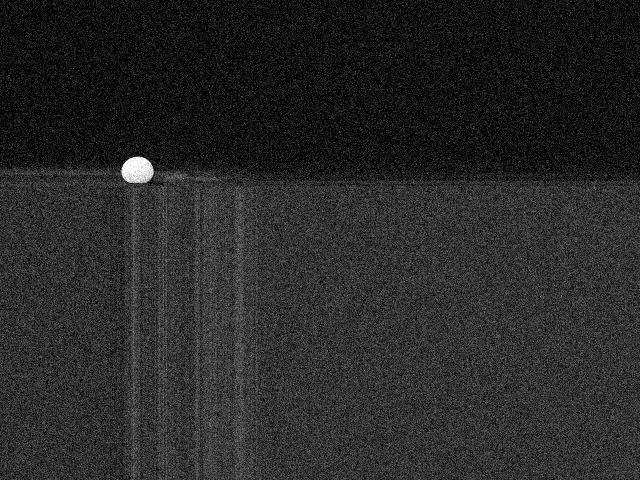egg: (121, 156, 154, 183)
